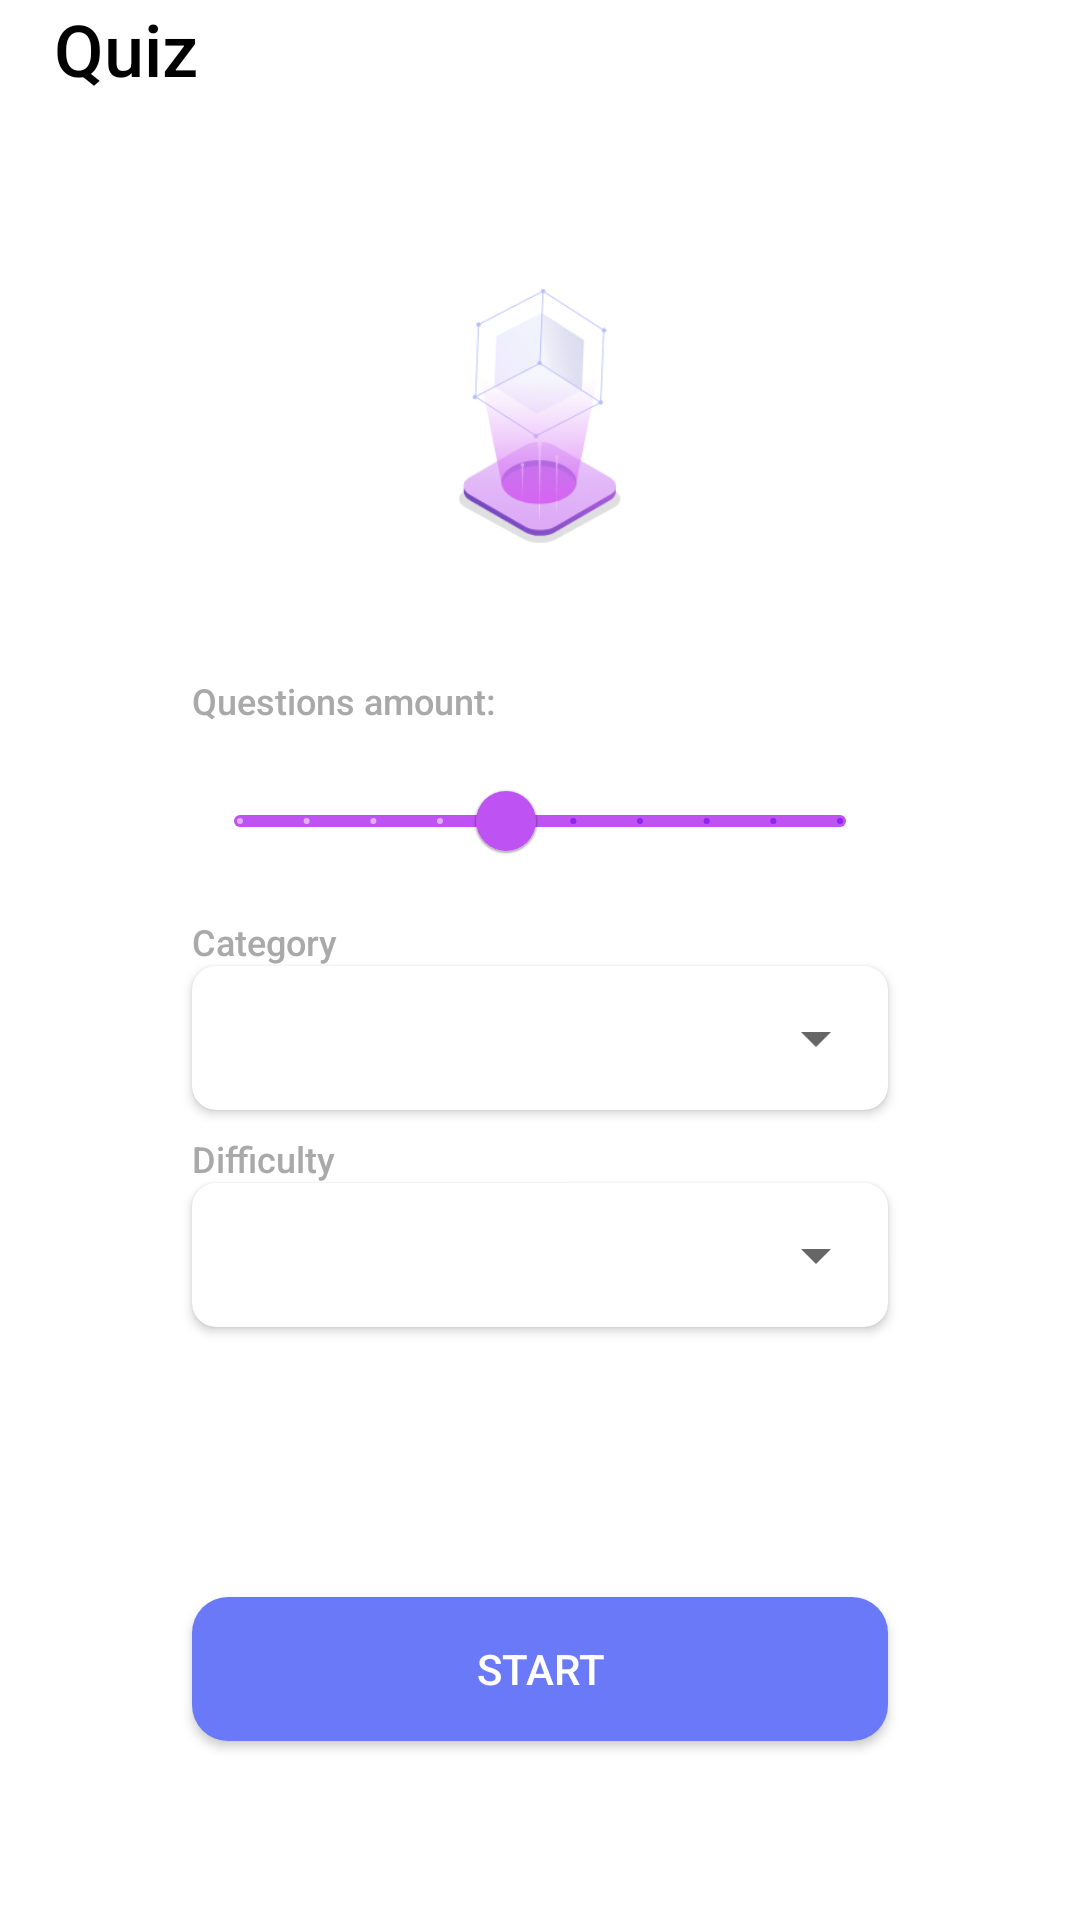

Icon click points for this 1080*1920 phone screenshot, format point (x, y):
art: point (540, 416)
